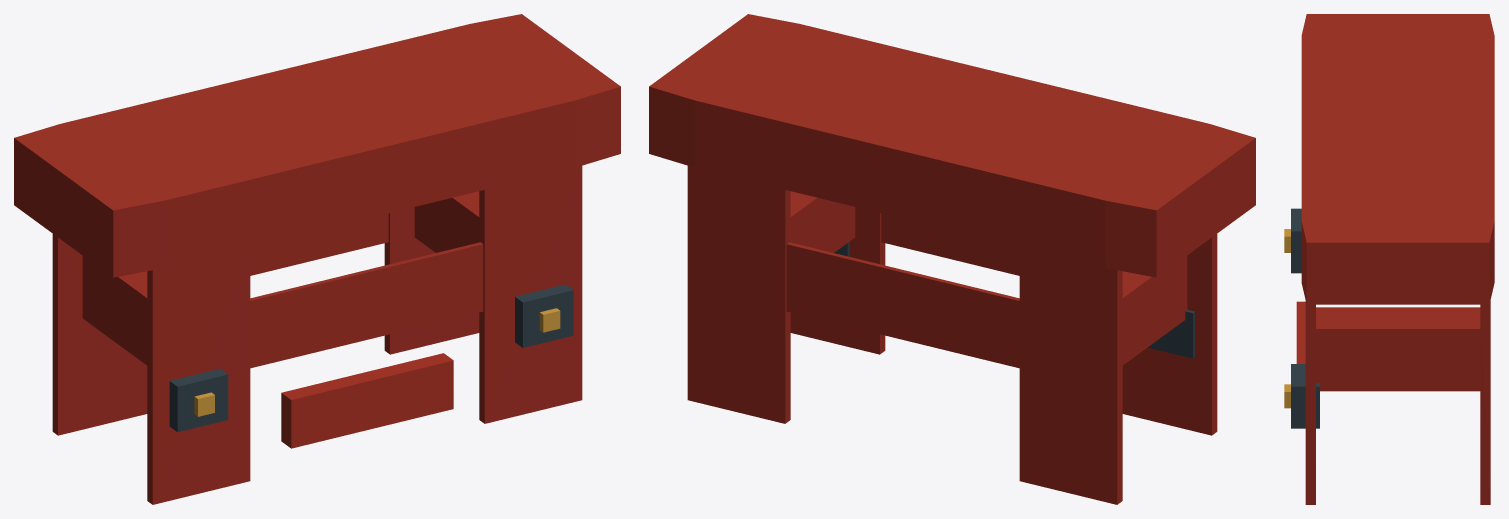
The model's file is market-bench-coral.glb.
3 renders of one model, left to right at view 1: azimuth 30°, elevation 25°; view 2: azimuth 150°, elevation 25°; view 3: azimuth 270°, elevation 25°, orthographic. The views are drawn at different scales.
Visible parts, largest first — view 1: market-bench-coral; view 2: market-bench-coral; view 3: market-bench-coral.
Part boxes in pixels (box(x1,y1,x2,y2)): market-bench-coral: box(14, 14, 620, 504); market-bench-coral: box(649, 14, 1255, 504); market-bench-coral: box(1284, 14, 1494, 504).
Bounding box in the file's own units: 1.4 × 0.8 × 0.5445.
